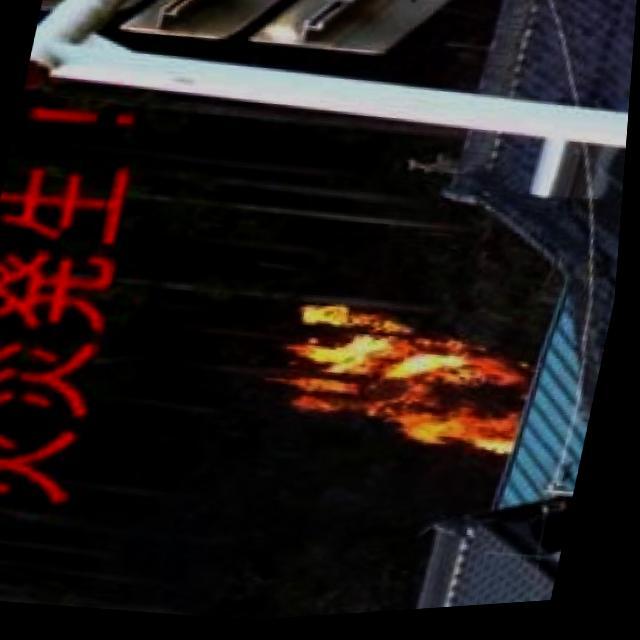helmet: (270, 280, 563, 487)
